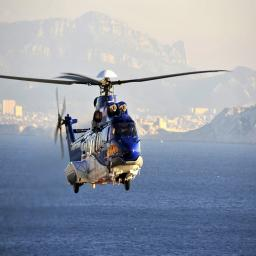helicopter: (20, 58, 213, 201)
